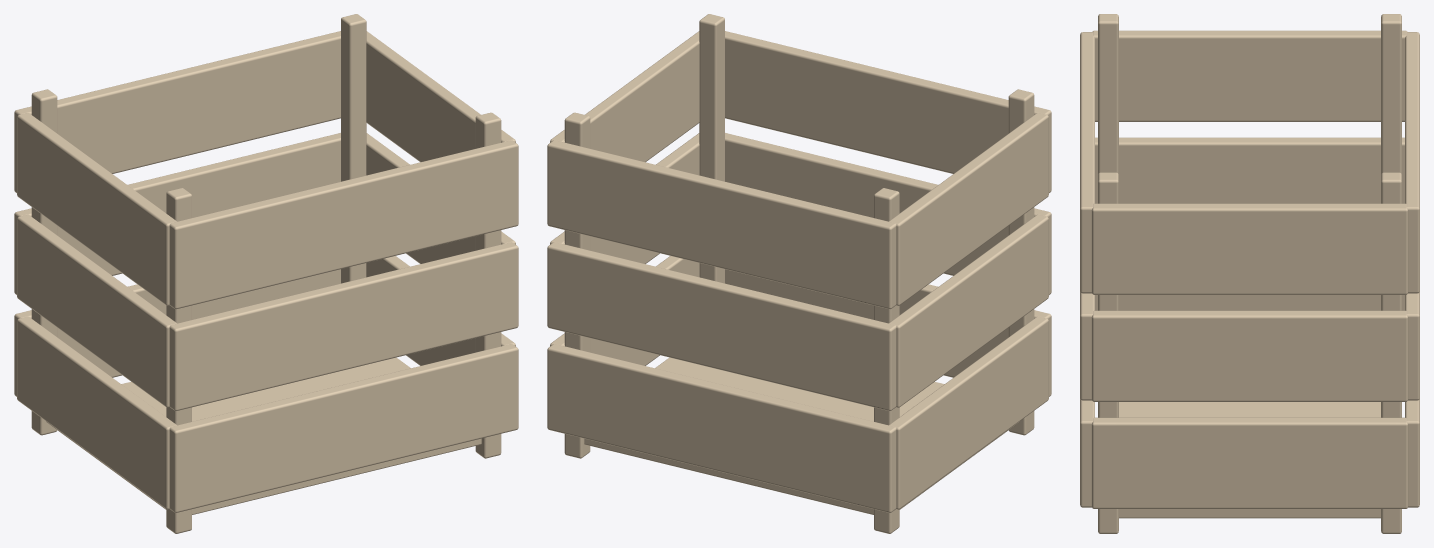
The model's file is crate.glb.
The picture shows the model from 3 angles, left to right: view 1: azimuth 30°, elevation 25°; view 2: azimuth 150°, elevation 25°; view 3: azimuth 270°, elevation 25°; orthographic projection. The views are drawn at different scales.
Visible parts, largest first — view 1: crate; view 2: crate; view 3: crate.
Part boxes in pixels (x1,y1,x2,y2): crate: (14,14,518,533); crate: (547,14,1051,533); crate: (1080,14,1419,533).
Size of the model in its own units: 0.5 by 0.46 by 0.4.
